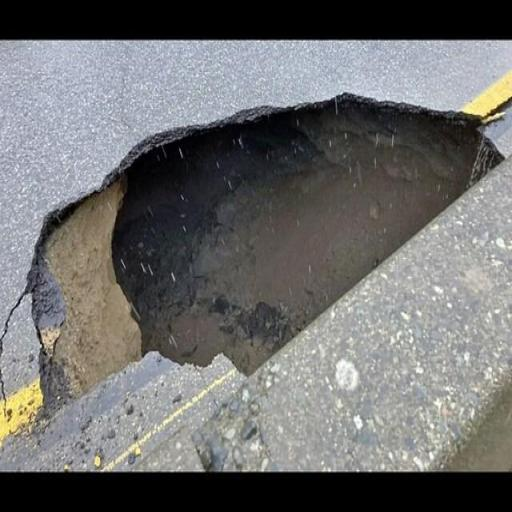Concentric_Crack: (28, 93, 503, 414)
